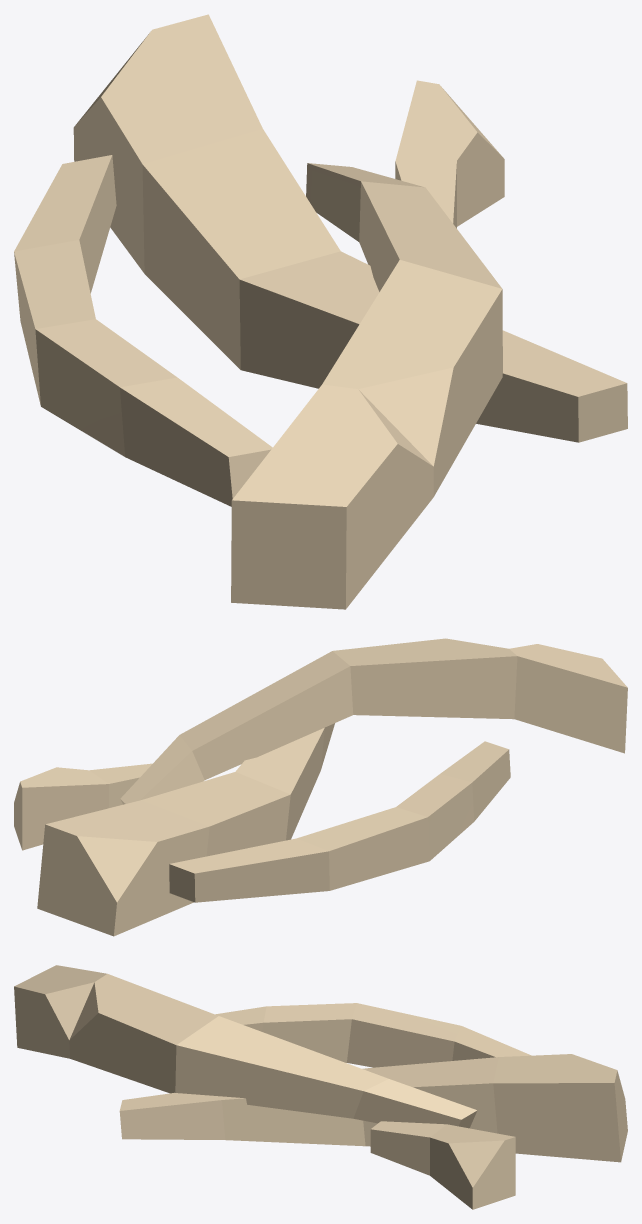
Rendered from Bone_Stack_1__0.glb.
3 renders of one model, top to bottom at view 1: azimuth 30°, elevation 25°; view 2: azimuth 150°, elevation 25°; view 3: azimuth 270°, elevation 25°, orthographic. The views are drawn at different scales.
Visible parts, largest first — view 1: Bone_Stack_1__0; view 2: Bone_Stack_1__0; view 3: Bone_Stack_1__0.
Part boxes in pixels (x1,y1,x2,y2): Bone_Stack_1__0: (14, 14, 627, 609); Bone_Stack_1__0: (14, 638, 627, 936); Bone_Stack_1__0: (14, 965, 627, 1209).
Bounding box in the file's own units: 0.414 × 0.1259 × 0.602.
Materials: 1 (1 with a texture image).
